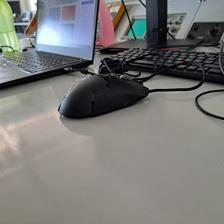mouse: (55, 74, 150, 121)
